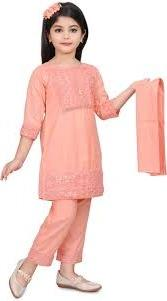Human: (9, 7, 145, 293)
